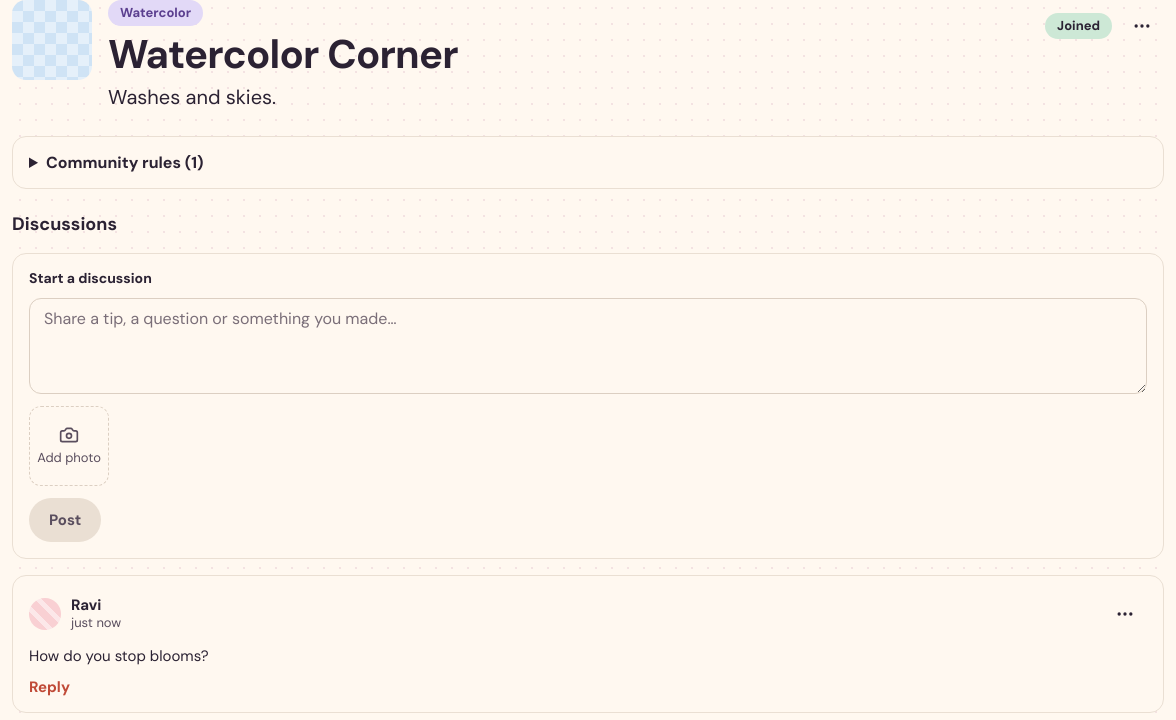
Test: CommunityView › shows the rules, and posts a discussion at the top of the list
Expected: the heading "Community rules (1)" is shown, x1=46 y1=152 x2=203 y2=173
Type " Fresh idea " into the text box labelled "Start a discussion" at x=588, y=346, box x1=29 y1=298 x2=1147 y2=394
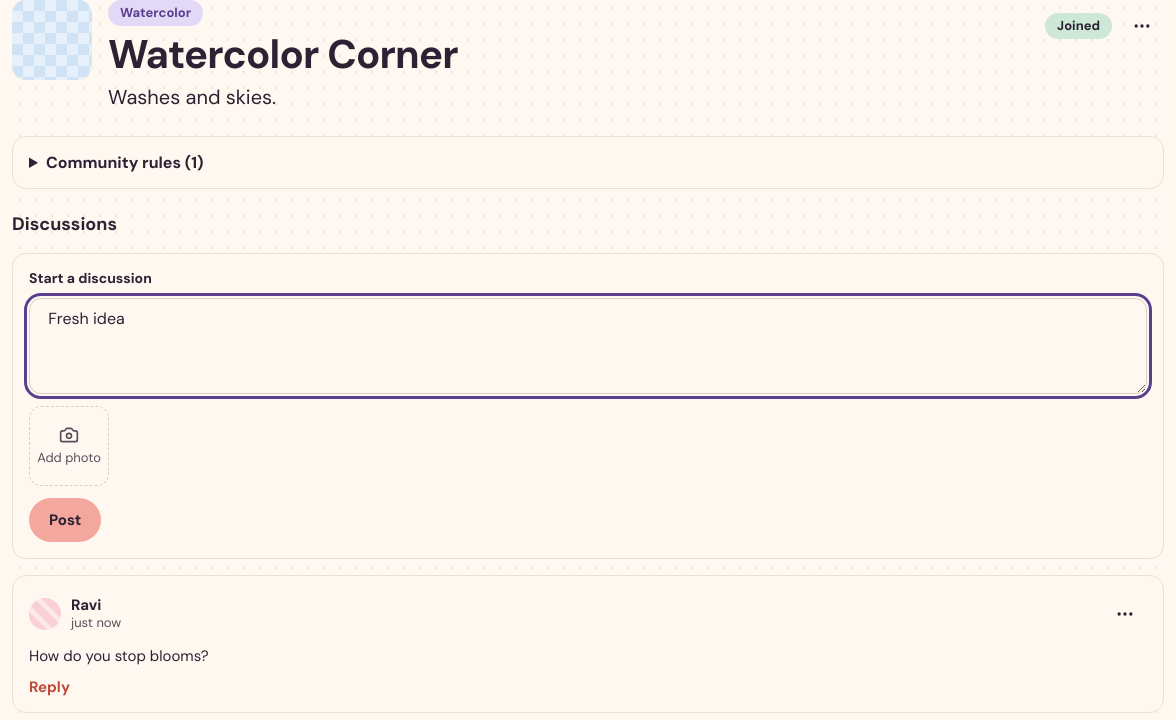
Click the button "Post" at x=65, y=520, box x1=29 y1=498 x2=101 y2=542
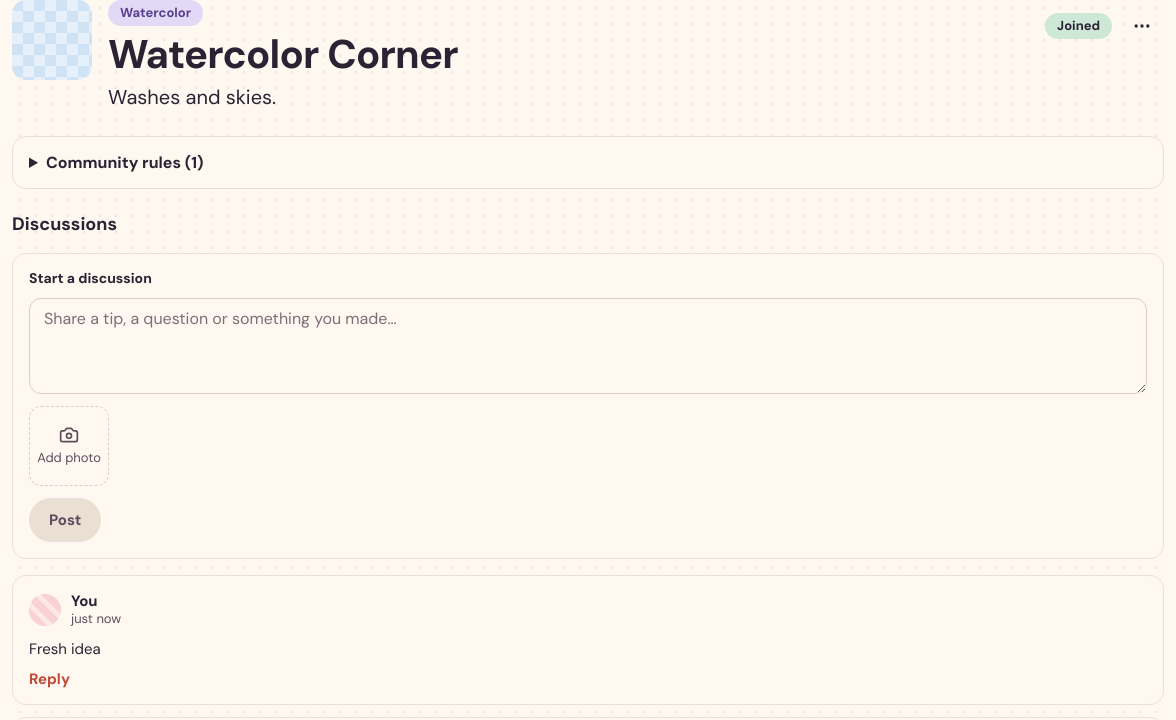
Now the text "Fresh idea" is shown, box x1=29 y1=638 x2=101 y2=658
Now the text box labelled "Start a discussion" is empty, box x1=29 y1=298 x2=1147 y2=394
